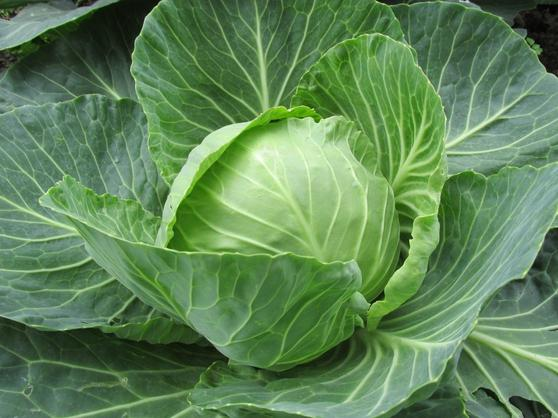cabbage: (155, 106, 411, 325)
